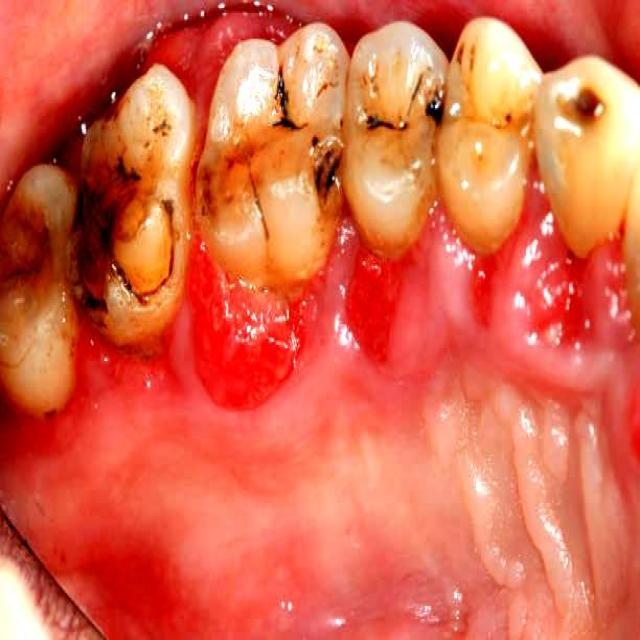caries: (72, 142, 173, 320), (0, 204, 62, 350), (550, 61, 624, 158), (197, 130, 267, 220), (298, 116, 354, 226), (264, 64, 315, 142), (407, 58, 458, 133), (356, 86, 405, 164)
